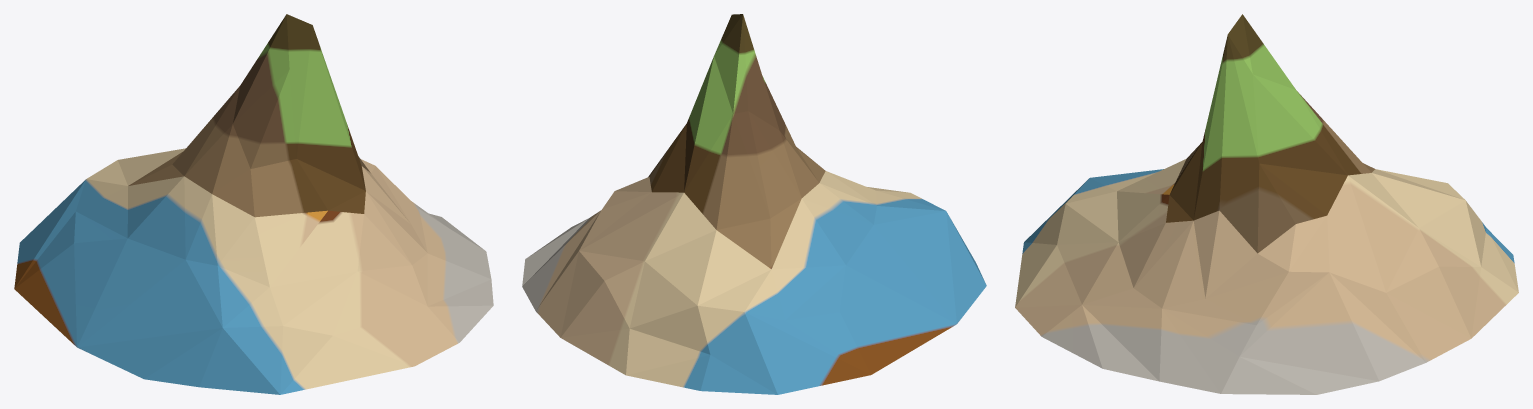
The model's file is Mountain_01.fbx.
3 views of the same model, side by side, from view 1: azimuth 30°, elevation 25°; view 2: azimuth 150°, elevation 25°; view 3: azimuth 270°, elevation 25° (orthographic). The views are drawn at different scales.
Visible parts, largest first — view 1: Mountain_01; view 2: Mountain_01; view 3: Mountain_01.
Boxes of the visible parts, x1,y1,x2,y2 form: Mountain_01: (14,14,493,394); Mountain_01: (522,14,986,394); Mountain_01: (1015,14,1518,394).
Bounding box in the file's own units: 73.37 × 47.54 × 76.17.
